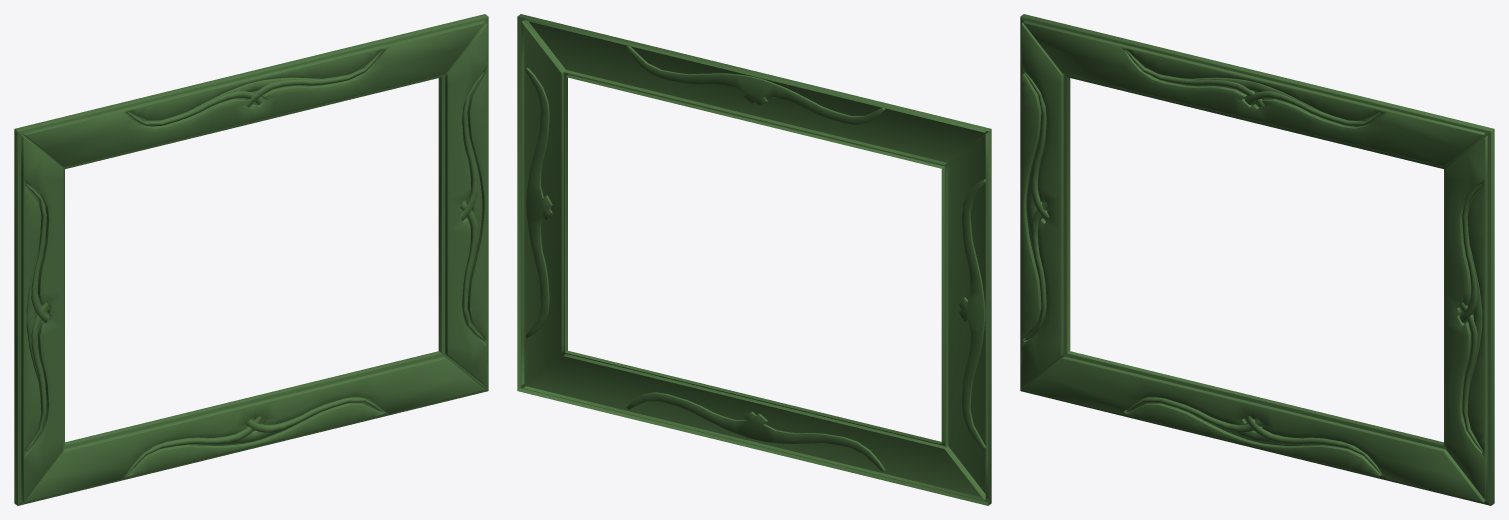
Rendered from mirrorFrame.obj.
3 renders of one model, left to right at view 1: azimuth 30°, elevation 25°; view 2: azimuth 150°, elevation 25°; view 3: azimuth 330°, elevation 25°, orthographic.
Visible parts, largest first — view 1: Object2389; view 2: Object2389; view 3: Object2389.
Boxes of the visible parts, bbox=[...] form: Object2389: bbox=[14, 14, 488, 505]; Object2389: bbox=[517, 14, 991, 505]; Object2389: bbox=[1020, 14, 1494, 505].
Size of the model in its own units: 3.74 by 2.84 by 0.0808.
